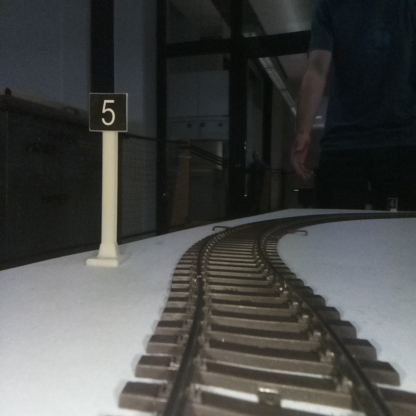black-info-5: (89, 92, 127, 265)
